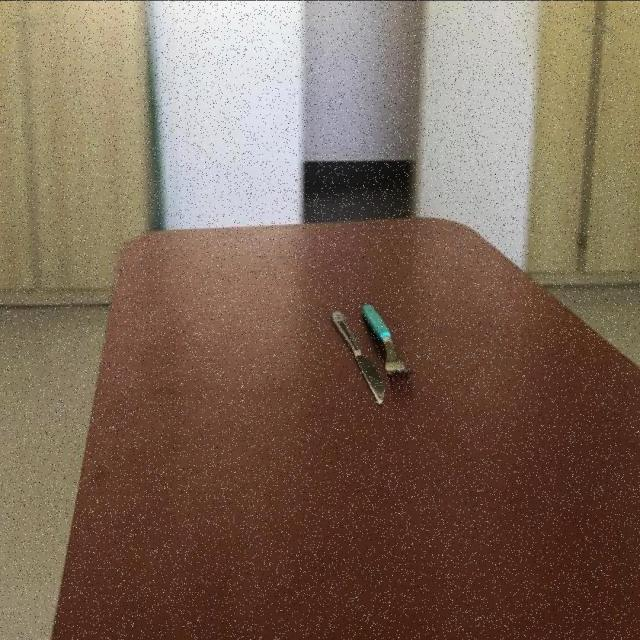Fork: (360, 304, 413, 384)
Knife: (329, 309, 385, 409), (359, 304, 414, 384)
